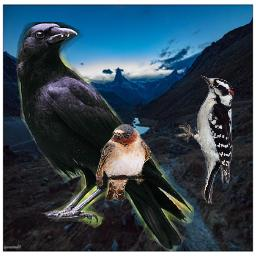Crow: (16, 22, 194, 252)
Swallow: (96, 124, 151, 201)
Woodpecker: (174, 74, 235, 204)
